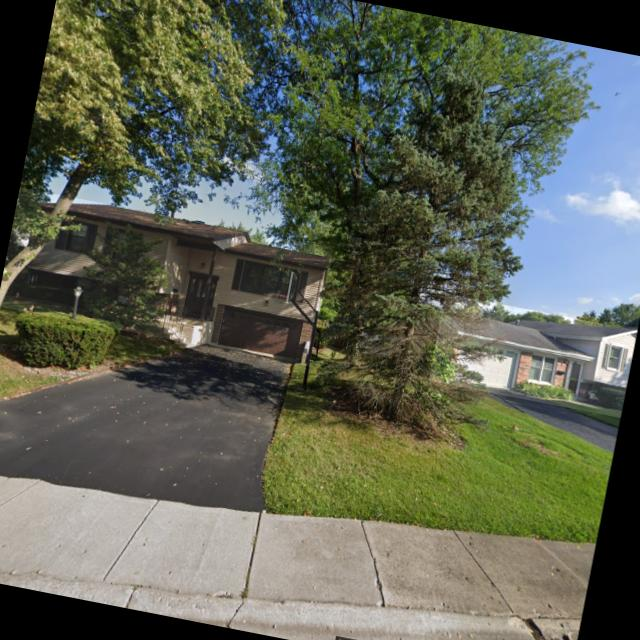House: (0, 187, 333, 367), (428, 294, 638, 418)
